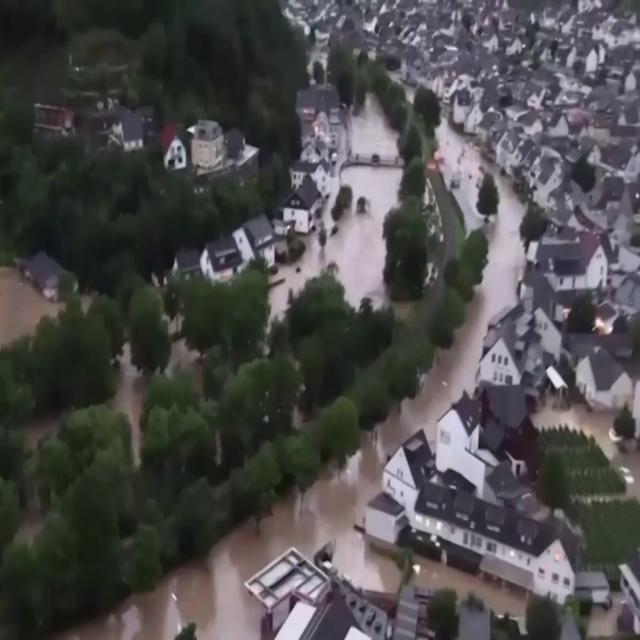flood: (50, 121, 526, 640), (271, 161, 400, 314), (539, 405, 640, 500), (415, 559, 527, 620), (0, 267, 60, 346), (113, 355, 145, 456), (351, 99, 397, 160), (589, 607, 620, 640), (171, 341, 197, 370)
house: (238, 548, 370, 639), (164, 116, 260, 188), (537, 224, 608, 300), (576, 344, 633, 416), (384, 432, 438, 494), (532, 528, 578, 596), (476, 324, 524, 382), (440, 389, 483, 447), (524, 300, 566, 354), (284, 180, 319, 234), (239, 216, 278, 264), (113, 108, 148, 153), (208, 234, 239, 278), (313, 107, 342, 149), (464, 100, 484, 134)
